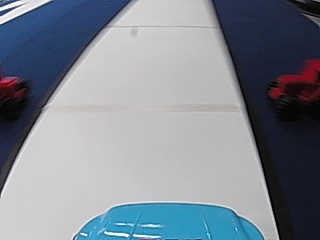tractor: (265, 56, 317, 122), (0, 73, 29, 117)
